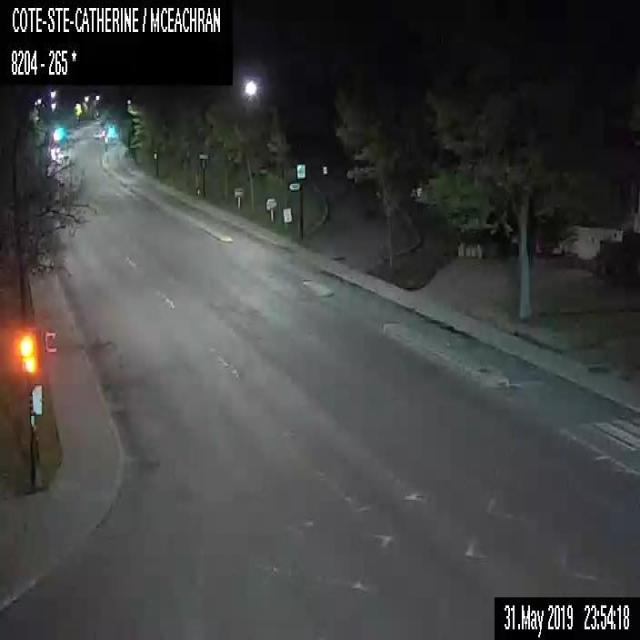vehicle: (93, 127, 102, 139)
